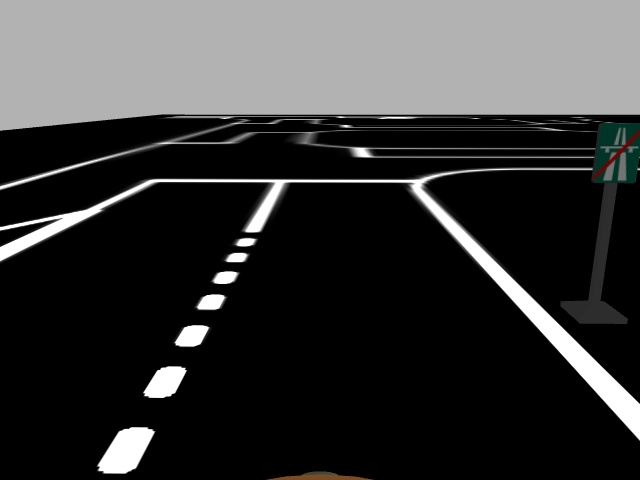leave_highway: (588, 120, 640, 185)
